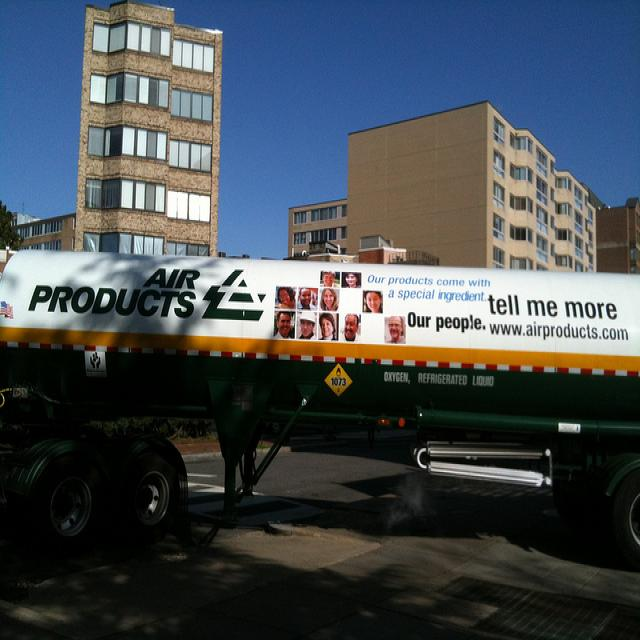Vehicle: (0, 247, 640, 563)
